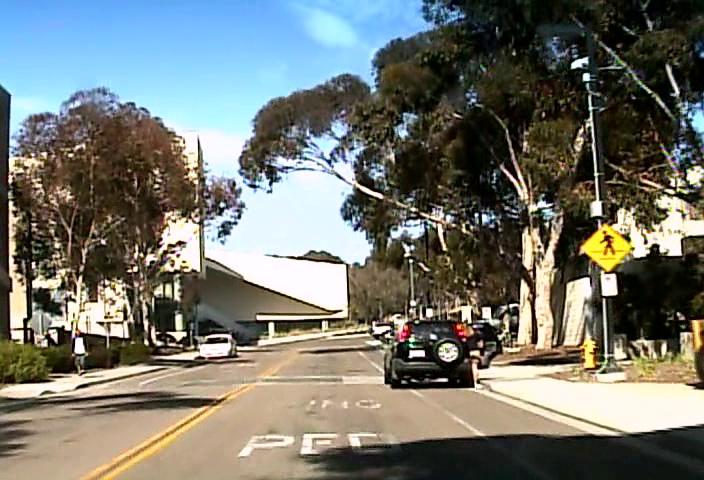pedestrianCrossing: (580, 223, 632, 272)
